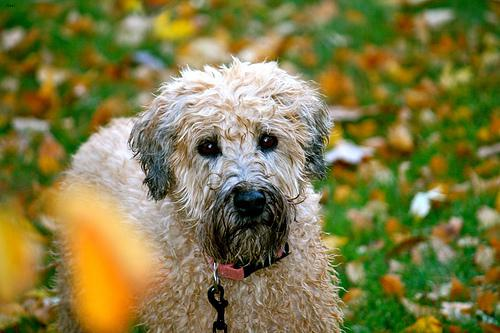dog-wheaten_terrier: (133, 64, 323, 245)
